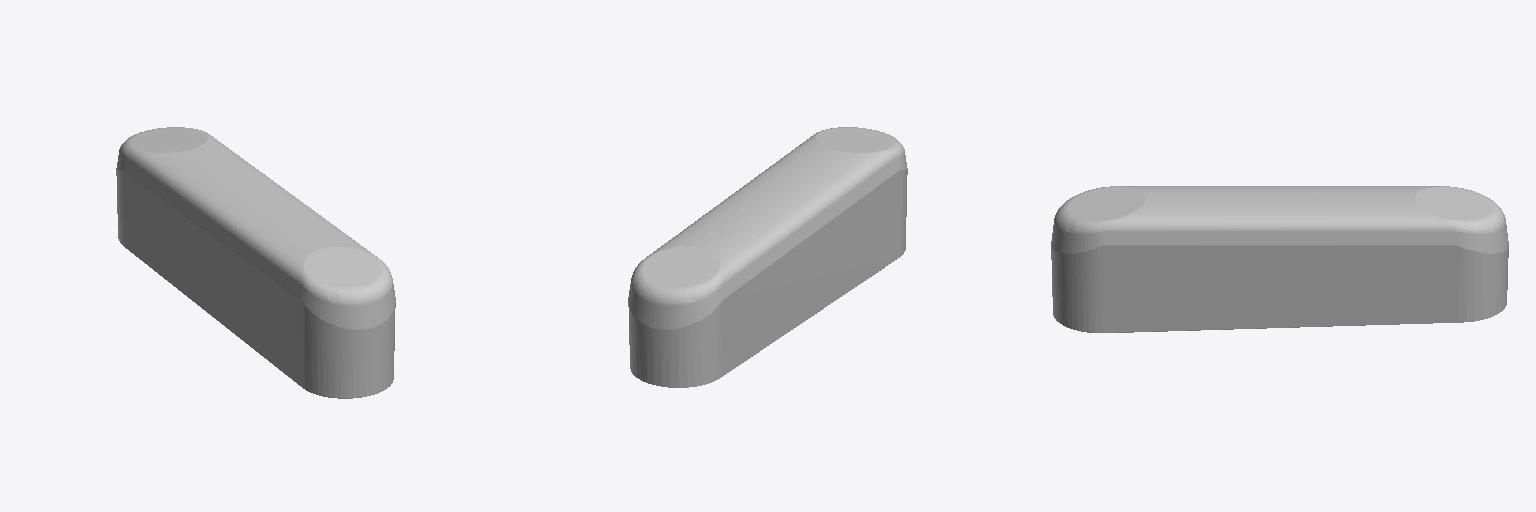
File: upper_arm_link_collisions_upperarm_mesh.obj
3 views of the same model, side by side, from view 1: azimuth 30°, elevation 25°; view 2: azimuth 150°, elevation 25°; view 3: azimuth 270°, elevation 25° (orthographic).
Size of the model in its own units: 0.1202 by 0.1497 by 0.5452.